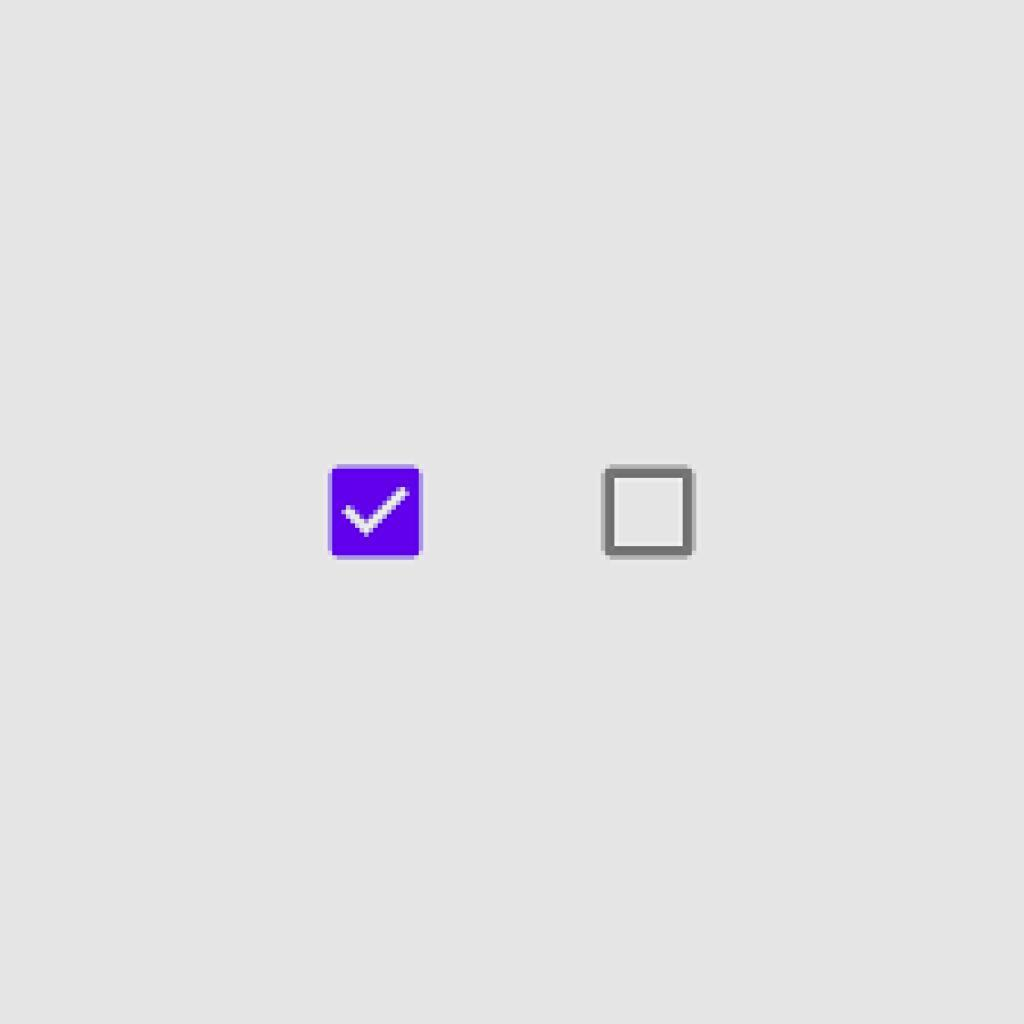checkbox: (601, 464, 699, 564), (329, 465, 424, 561)
